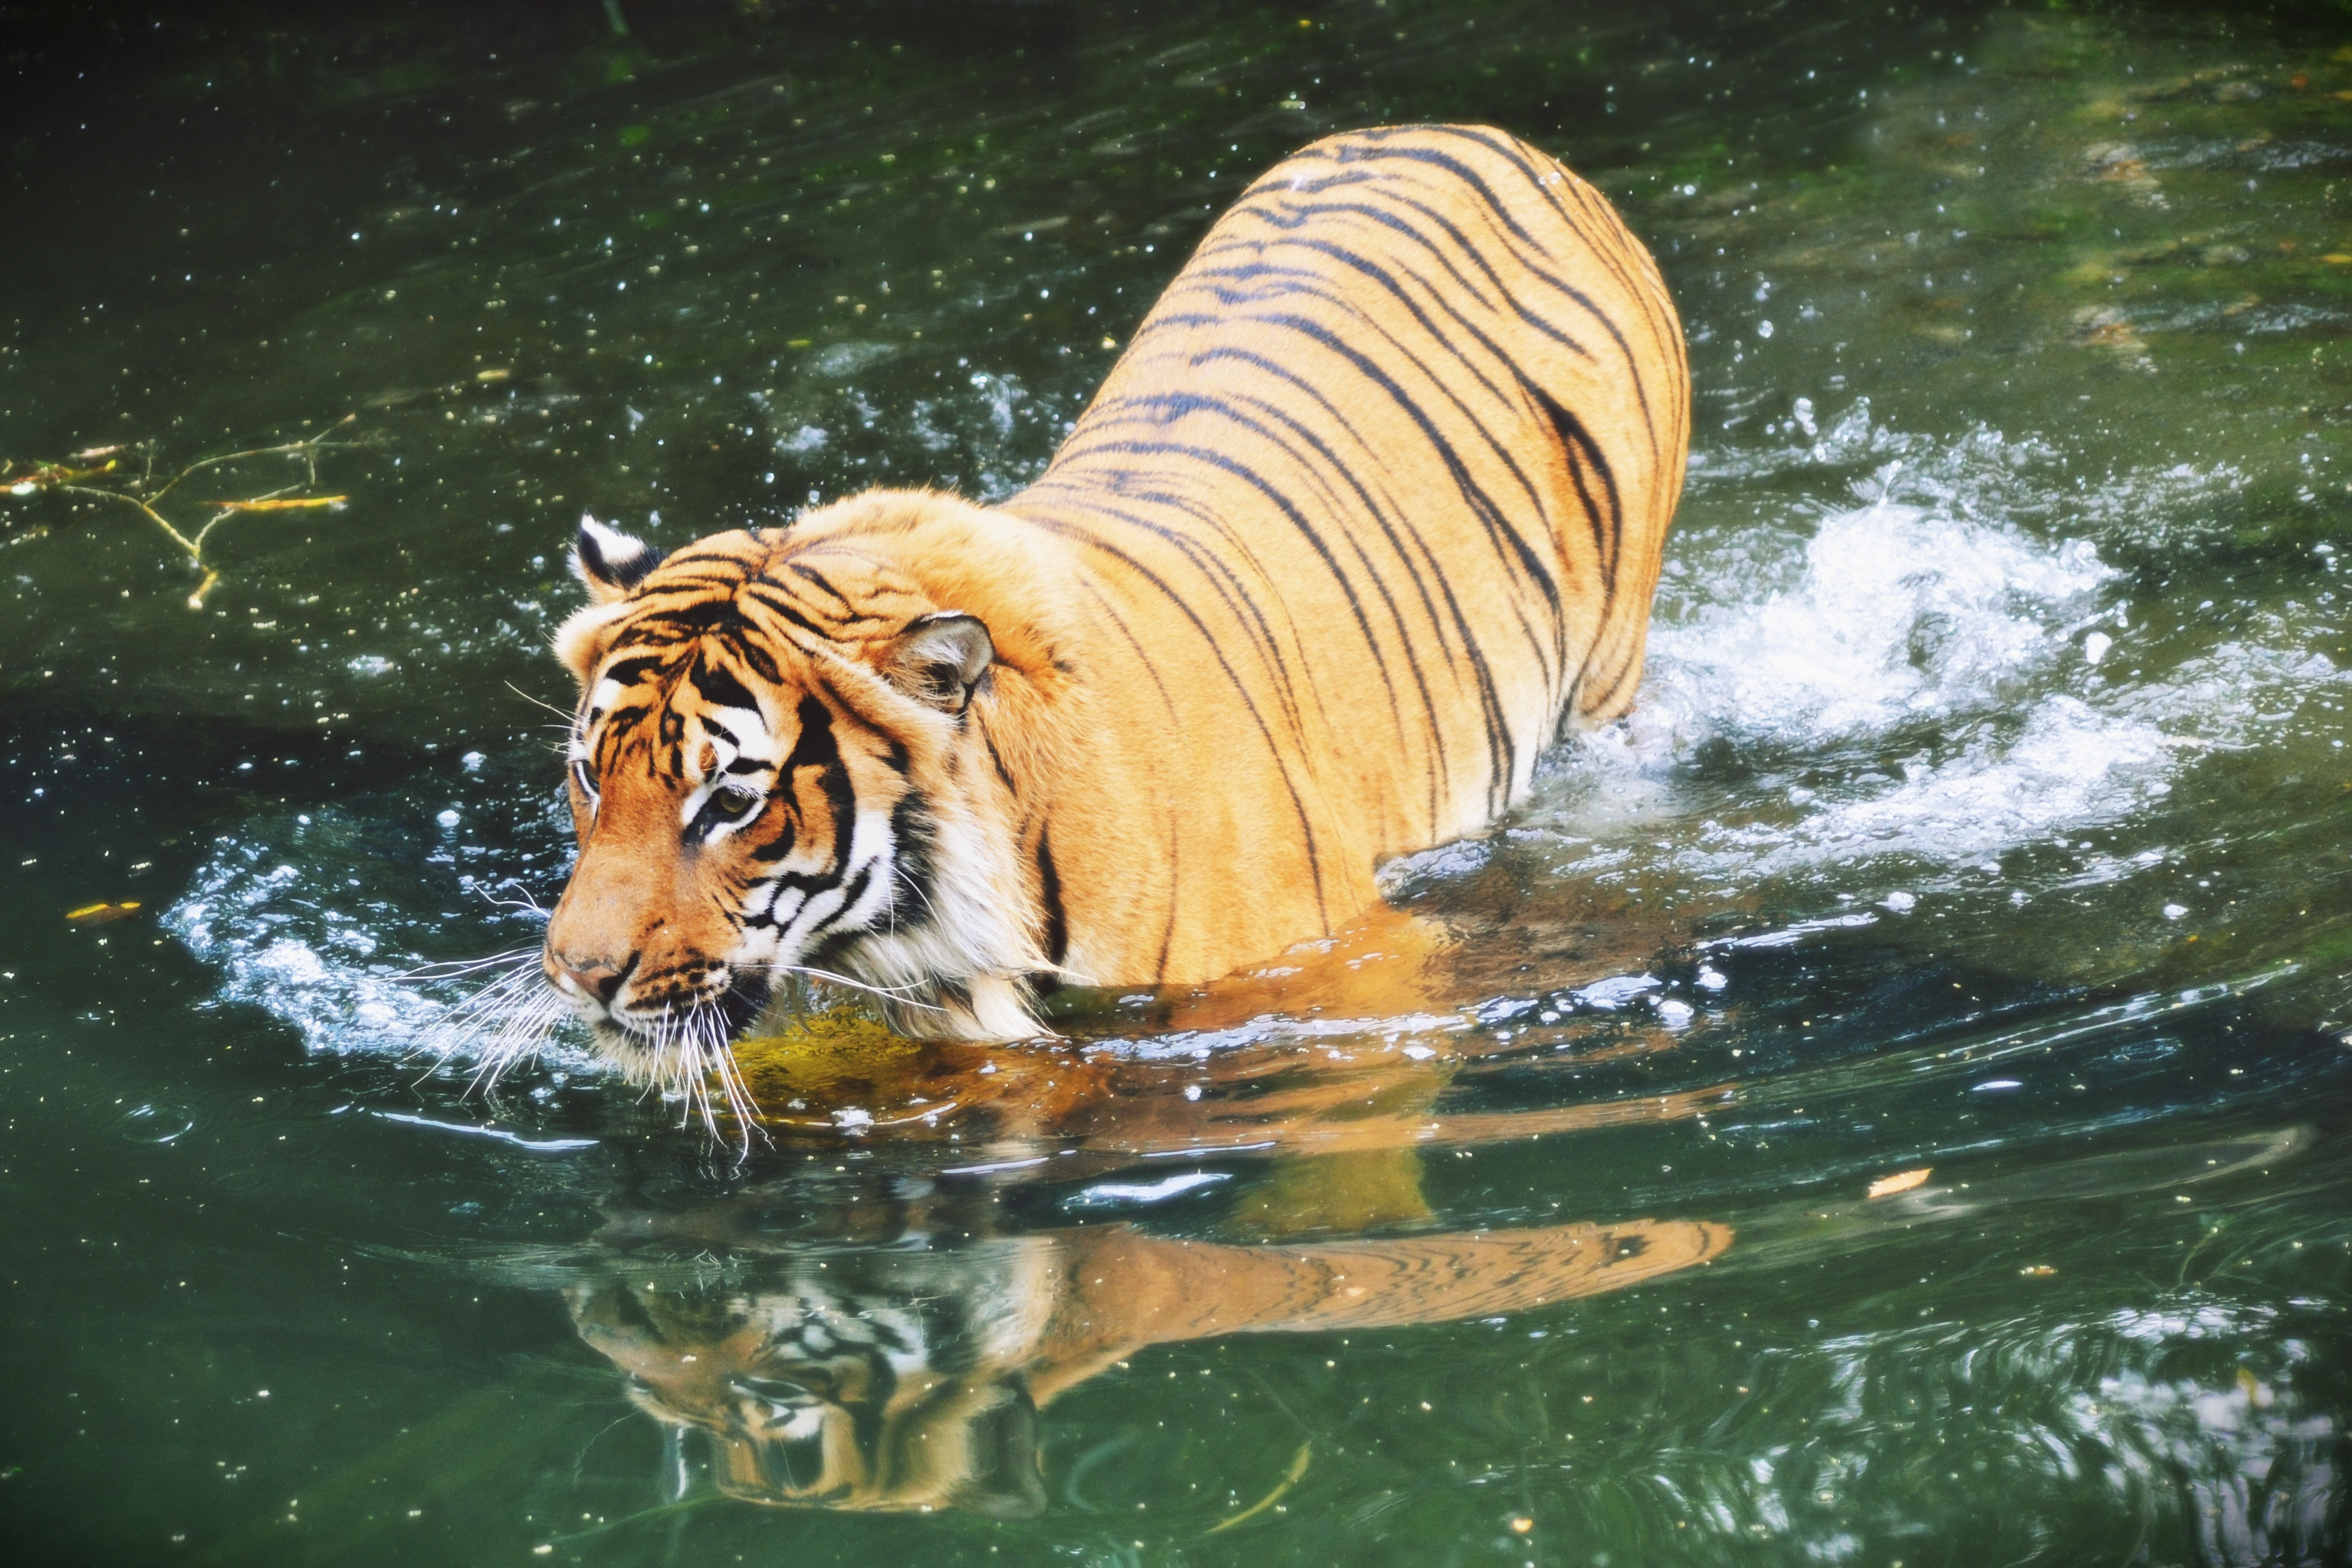tiger: (404, 100, 1829, 1131)
